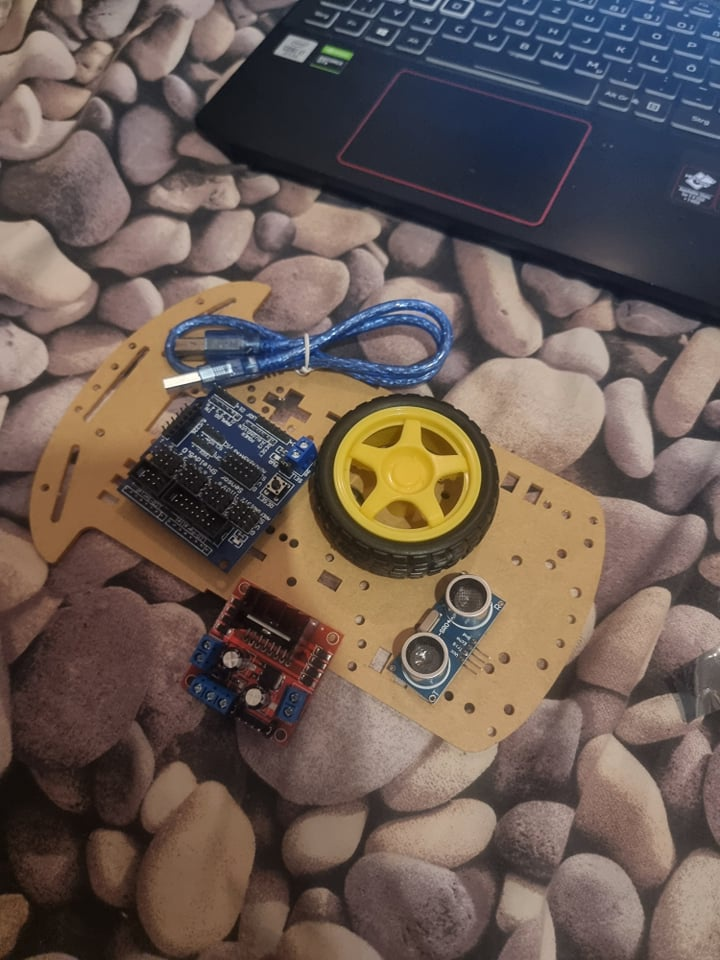5V EXPANSION: (120, 395, 313, 576)
MOTOR: (179, 581, 341, 749)
SENSOR: (390, 573, 499, 700)
